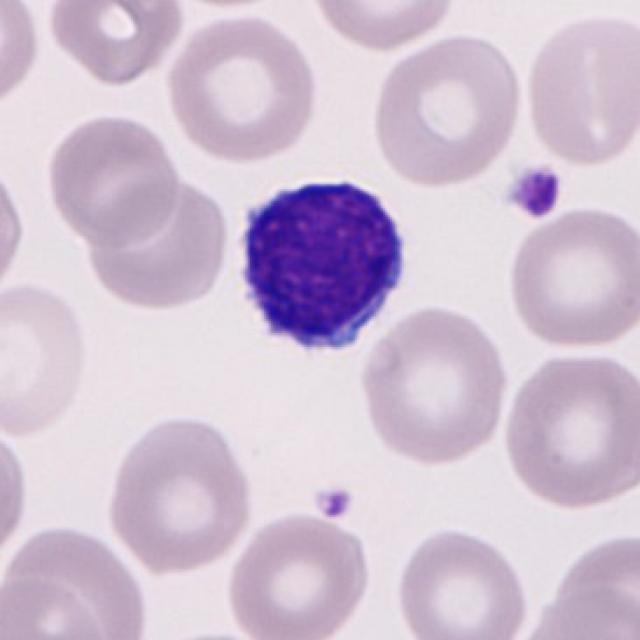Lymphocyte: (226, 165, 422, 366)
Platelets: (504, 163, 564, 222), (309, 480, 356, 524)
RBC: (355, 302, 514, 468), (103, 410, 259, 578), (369, 29, 526, 191), (159, 10, 322, 163), (496, 345, 640, 513), (80, 172, 232, 312), (504, 201, 638, 354), (222, 508, 376, 640), (42, 109, 184, 248), (521, 9, 638, 170), (2, 518, 154, 640), (392, 522, 533, 640), (0, 277, 94, 442), (42, 0, 187, 87), (542, 528, 640, 638), (304, 0, 460, 52), (0, 572, 108, 639), (511, 584, 638, 640), (0, 422, 33, 572), (0, 0, 44, 111), (0, 158, 30, 296), (152, 0, 303, 14), (140, 626, 283, 640)
